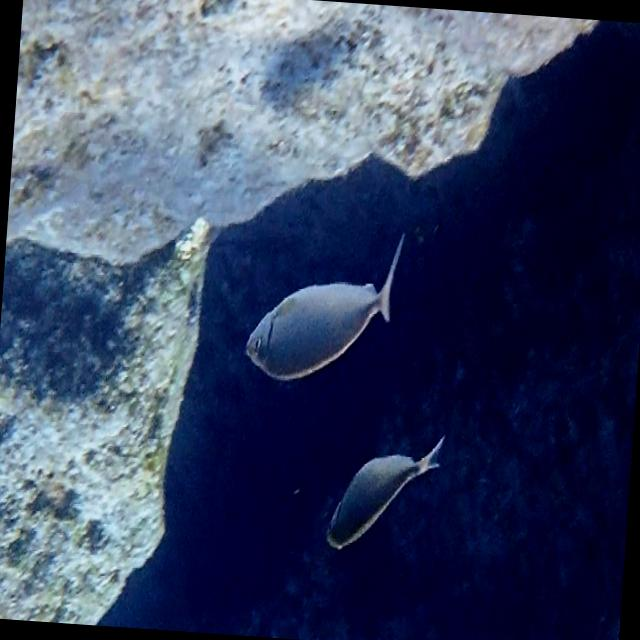Sokar Baligi: (219, 211, 410, 411), (308, 394, 459, 580)
